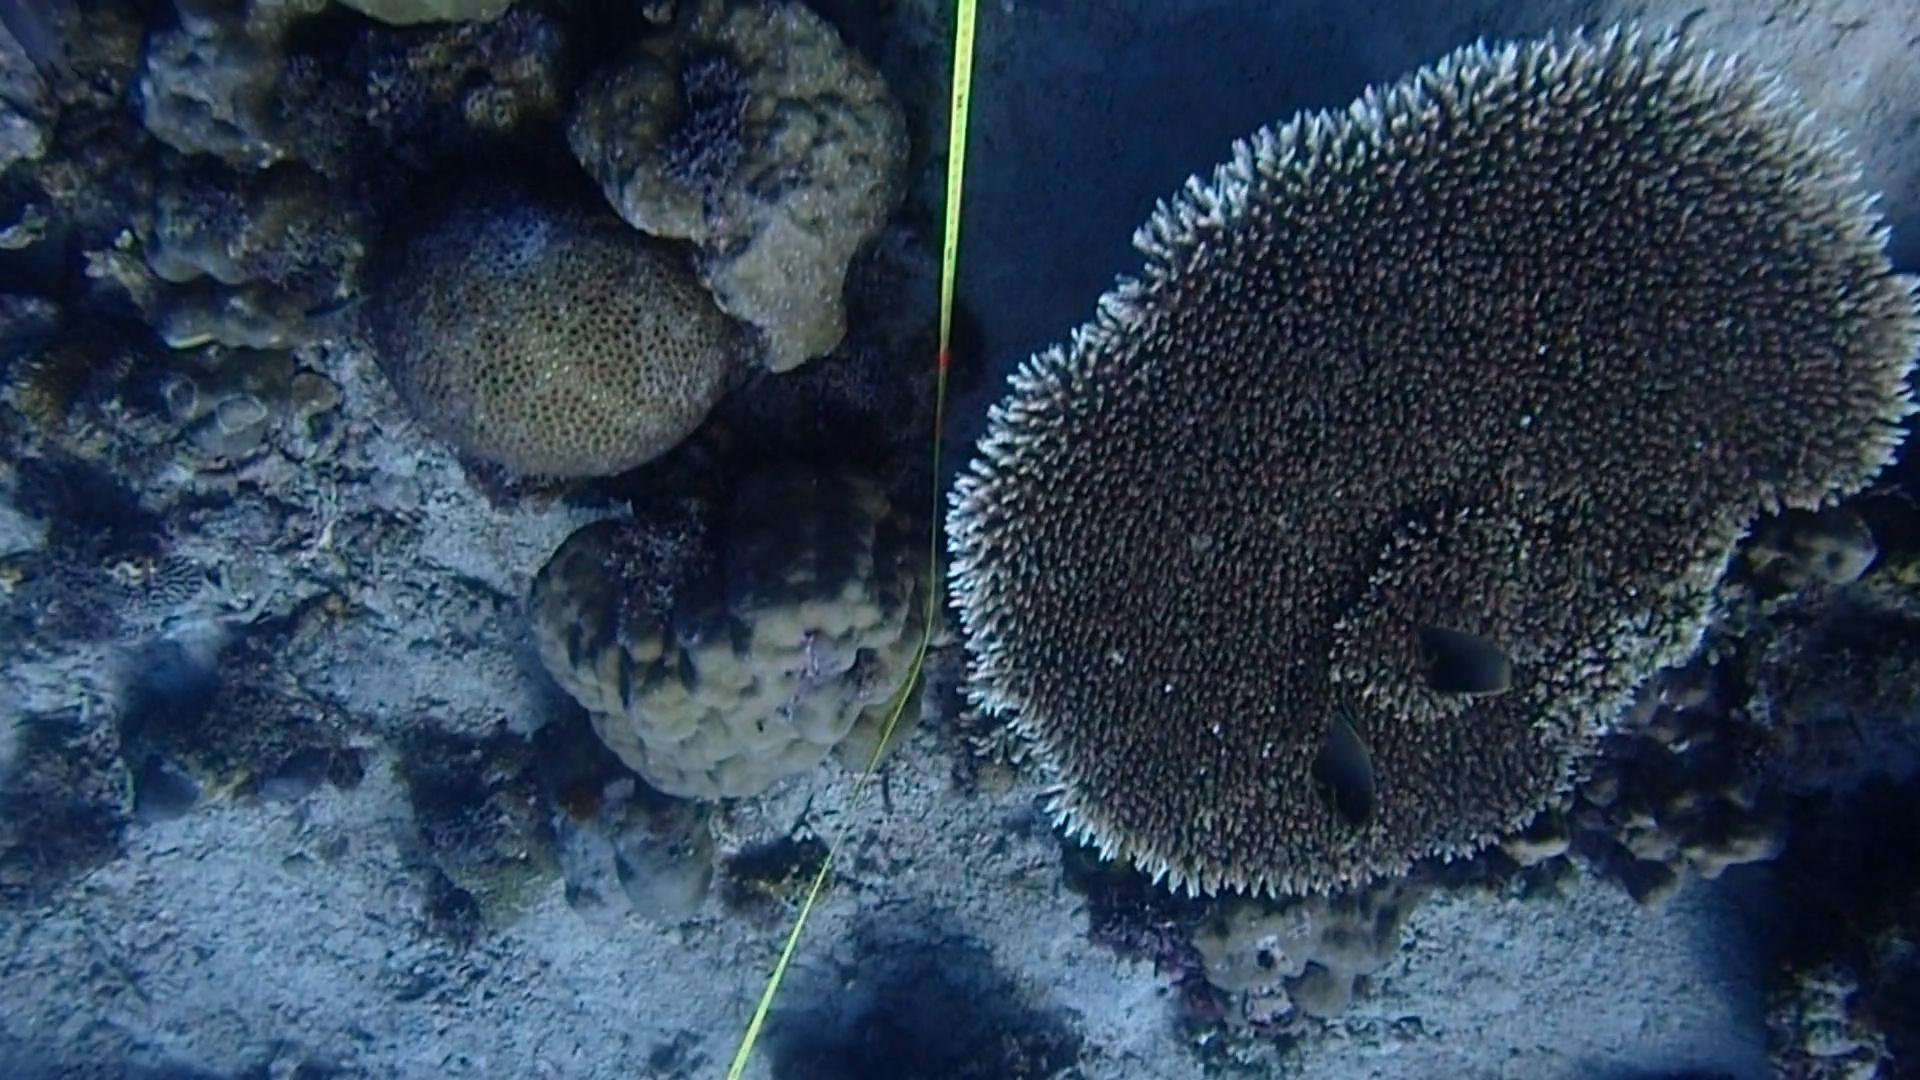Dark Blue Dory: (1398, 611, 1528, 715), (1294, 708, 1390, 835)
Light Fish: (289, 277, 378, 328)
